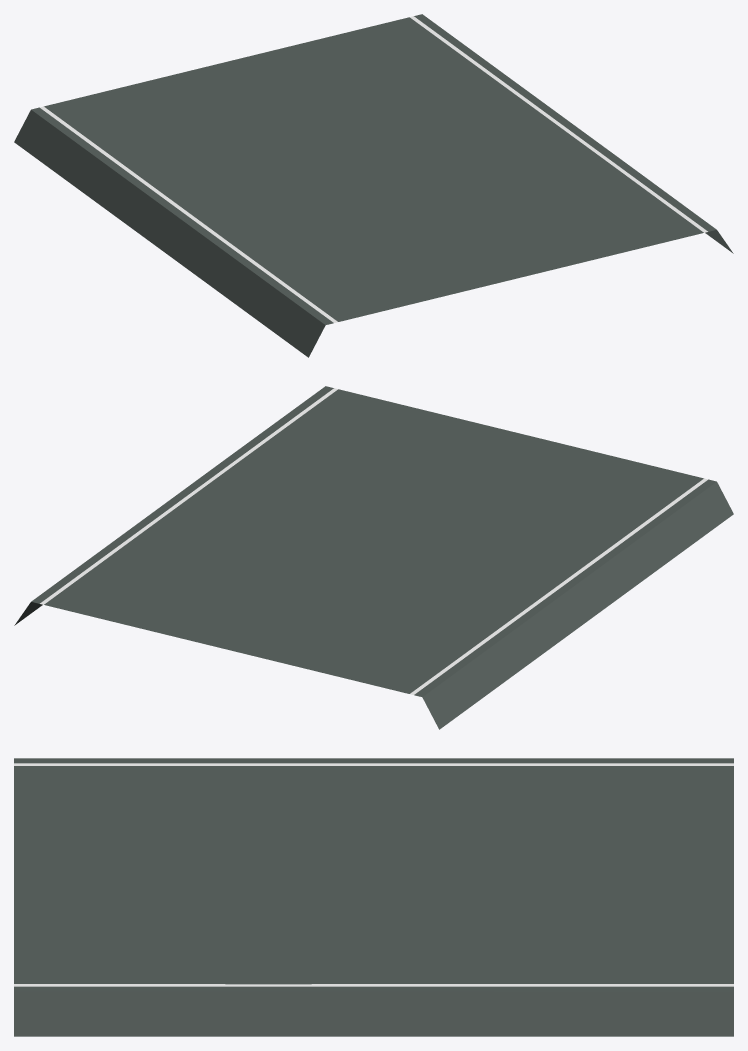
File: Straight_S.fbx
The picture shows the model from 3 angles, top to bottom: view 1: azimuth 30°, elevation 25°; view 2: azimuth 150°, elevation 25°; view 3: azimuth 270°, elevation 25°; orthographic projection. The views are drawn at different scales.
Parts seen in each view (by area): view 1: Plane; view 2: Plane; view 3: Plane.
Boxes of the visible parts, x1,y1,x2,y2 form: Plane: [14, 14, 733, 357]; Plane: [14, 386, 733, 729]; Plane: [14, 758, 733, 1036].
Size of the model in its own units: 25 by 1.6 by 30.
